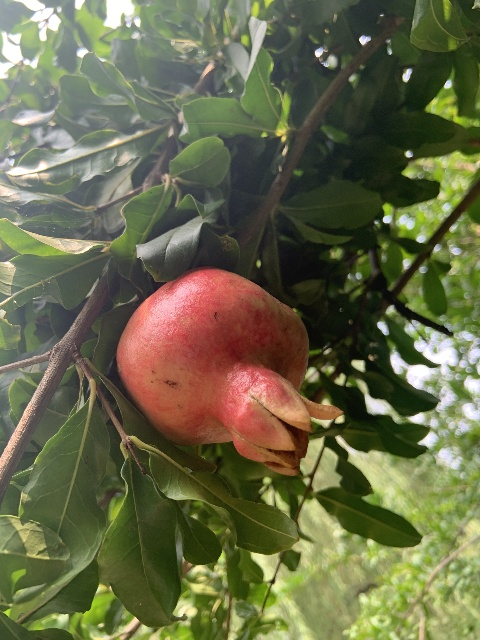ripe: (114, 266, 342, 474)
